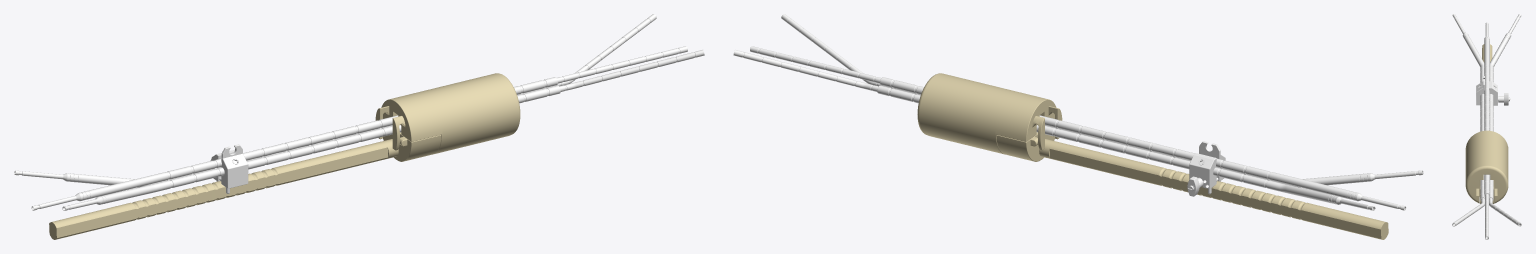
File: Device_2_3.glb
The picture shows the model from 3 angles, left to right: view 1: azimuth 30°, elevation 25°; view 2: azimuth 150°, elevation 25°; view 3: azimuth 270°, elevation 25°; orthographic projection. The views are drawn at different scales.
Visible parts, largest first — view 1: pCylinder23, Bottom_Rod, polySurface49, polySurface47, polySurface60, polySurface59, pCylinder21; view 2: pCylinder23, Bottom_Rod, polySurface49, polySurface60, polySurface47, pCylinder21, pCube8; view 3: pCylinder23, polySurface49, polySurface47, polySurface60, polySurface59, pCube8, pCylinder21, Bottom_Rod, pCube9.
Part boxes in pixels (x1,y1,x2,y2): pCylinder23: (381, 73, 520, 154); Bottom_Rod: (49, 139, 398, 239); polySurface49: (31, 46, 687, 210); polySurface47: (62, 50, 704, 210); polySurface60: (14, 14, 656, 187); polySurface59: (221, 144, 248, 188); pCylinder21: (383, 132, 441, 161); pCylinder23: (917, 73, 1056, 154); Bottom_Rod: (1039, 139, 1388, 239); polySurface49: (750, 46, 1406, 210); polySurface60: (733, 50, 1375, 210); polySurface47: (781, 14, 1423, 187); pCylinder21: (996, 132, 1054, 161); pCube8: (1189, 153, 1216, 189); pCylinder23: (1465, 130, 1508, 203); polySurface49: (1484, 22, 1489, 239); polySurface47: (1452, 14, 1484, 226); polySurface60: (1489, 14, 1521, 226); polySurface59: (1476, 76, 1484, 105); pCube8: (1489, 81, 1497, 105); pCylinder21: (1479, 180, 1494, 203); Bottom_Rod: (1482, 44, 1492, 62); pCube9: (1504, 93, 1508, 105).
Bounding box in the file's own units: 0.0529 × 0.00452 × 0.0073.
